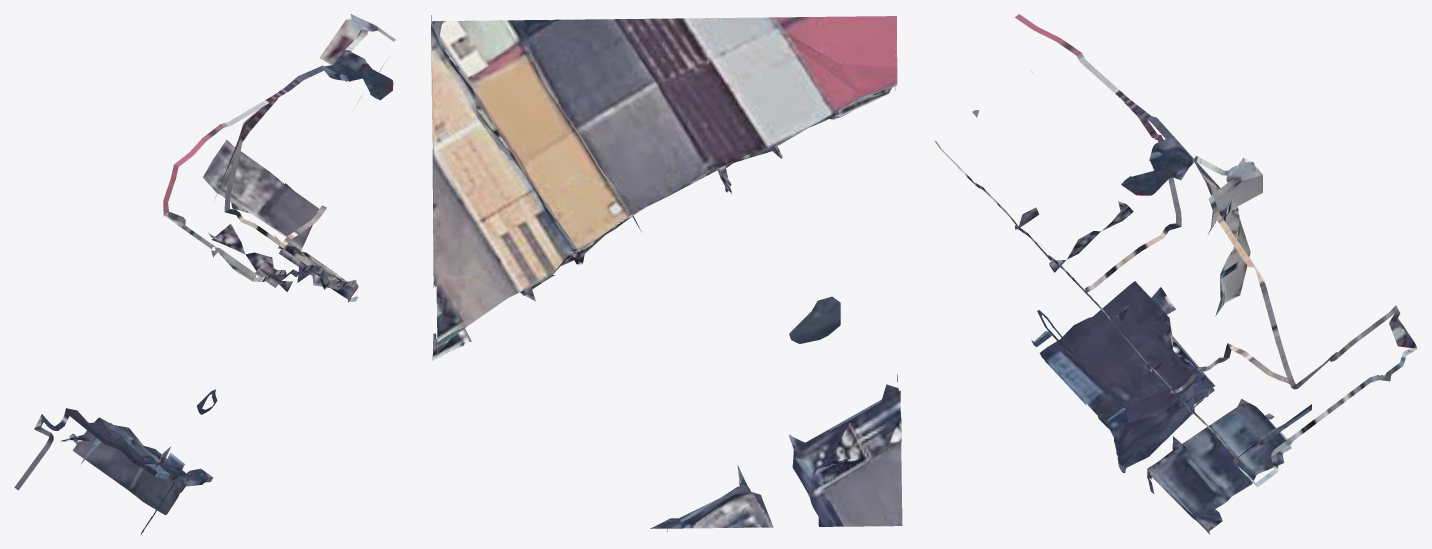
3 renders of one model, left to right at view 1: azimuth 30°, elevation 25°; view 2: azimuth 150°, elevation 25°; view 3: azimuth 270°, elevation 25°, orthographic. The views are drawn at different scales.
Size of the model in its own units: 39.8 by 39.92 by 38.29.
1 material, 1 textured.
